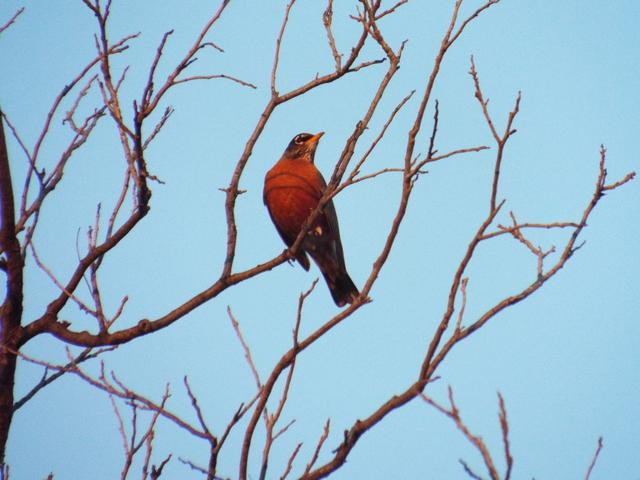bird: (252, 114, 381, 323)
